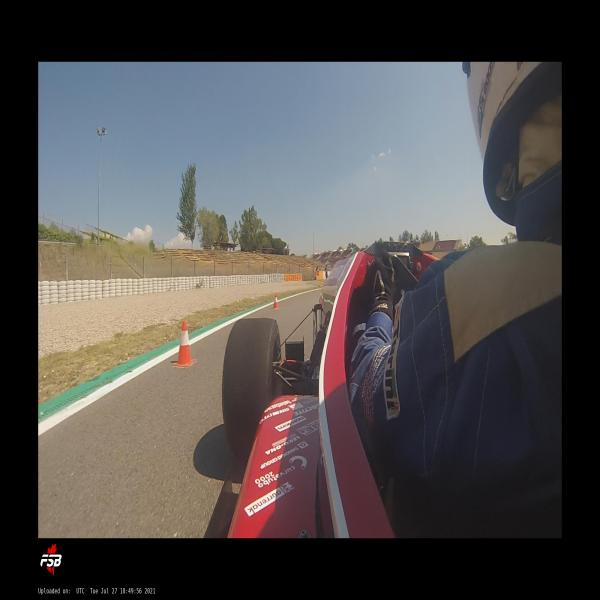orange_cone: (174, 320, 196, 367), (274, 293, 280, 309)
